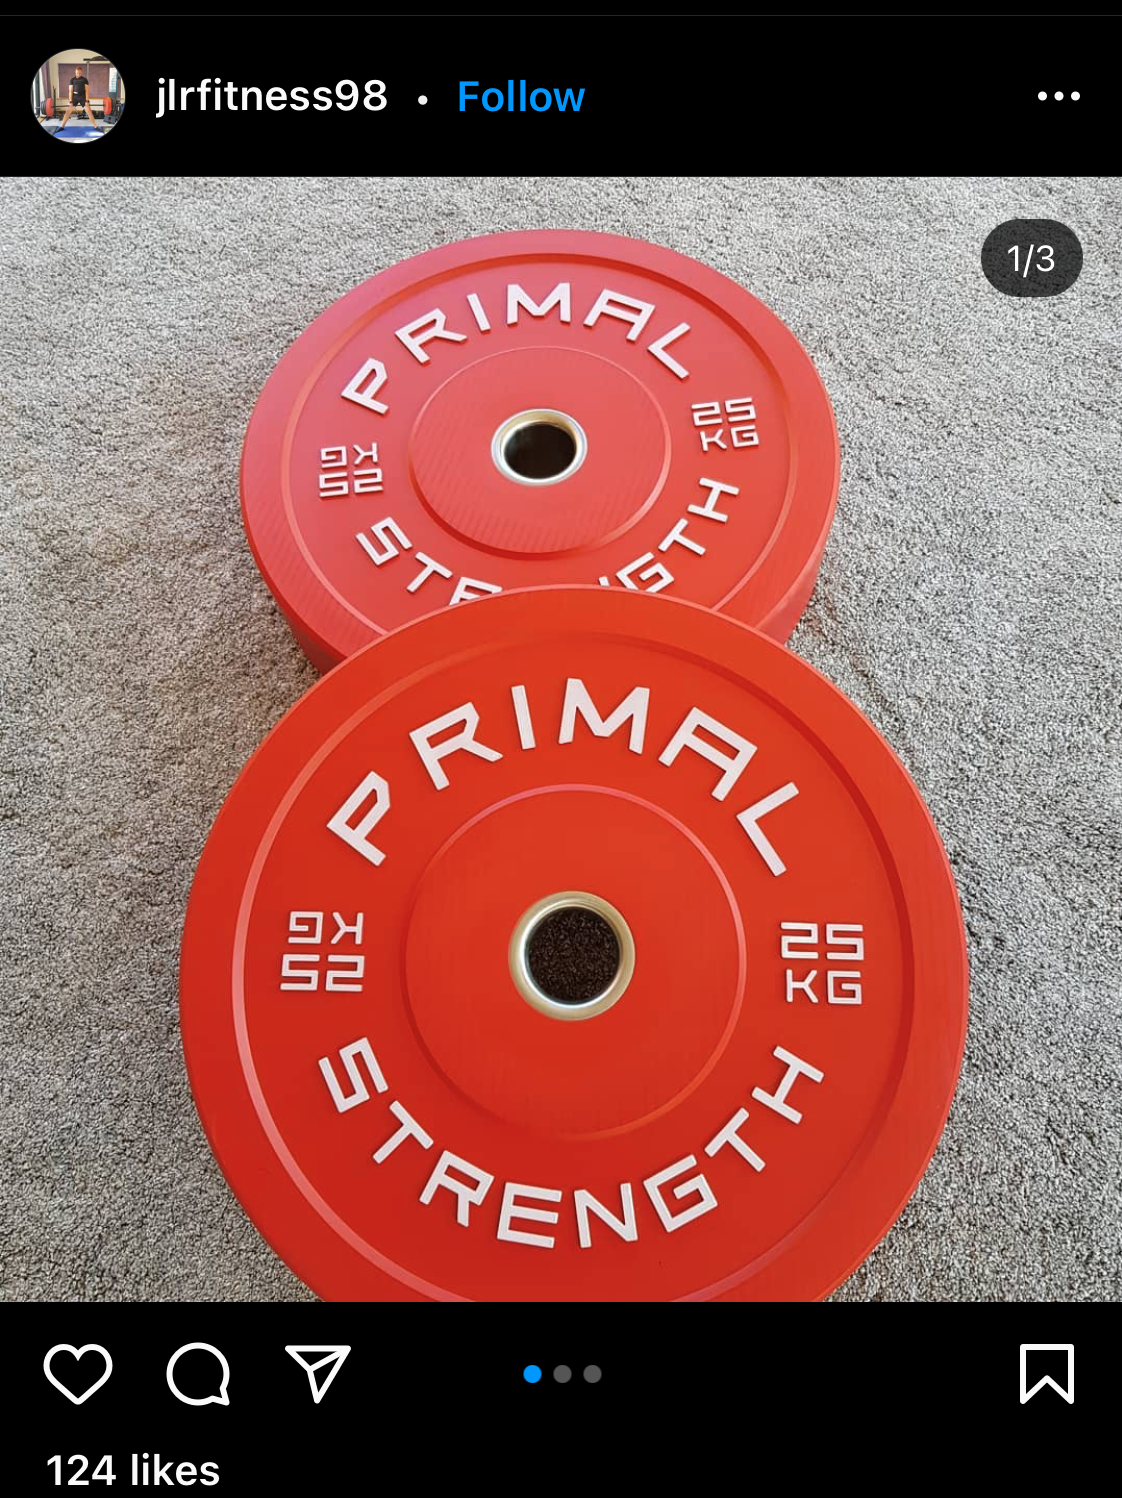weights: (171, 575, 981, 1306), (230, 222, 841, 666)
